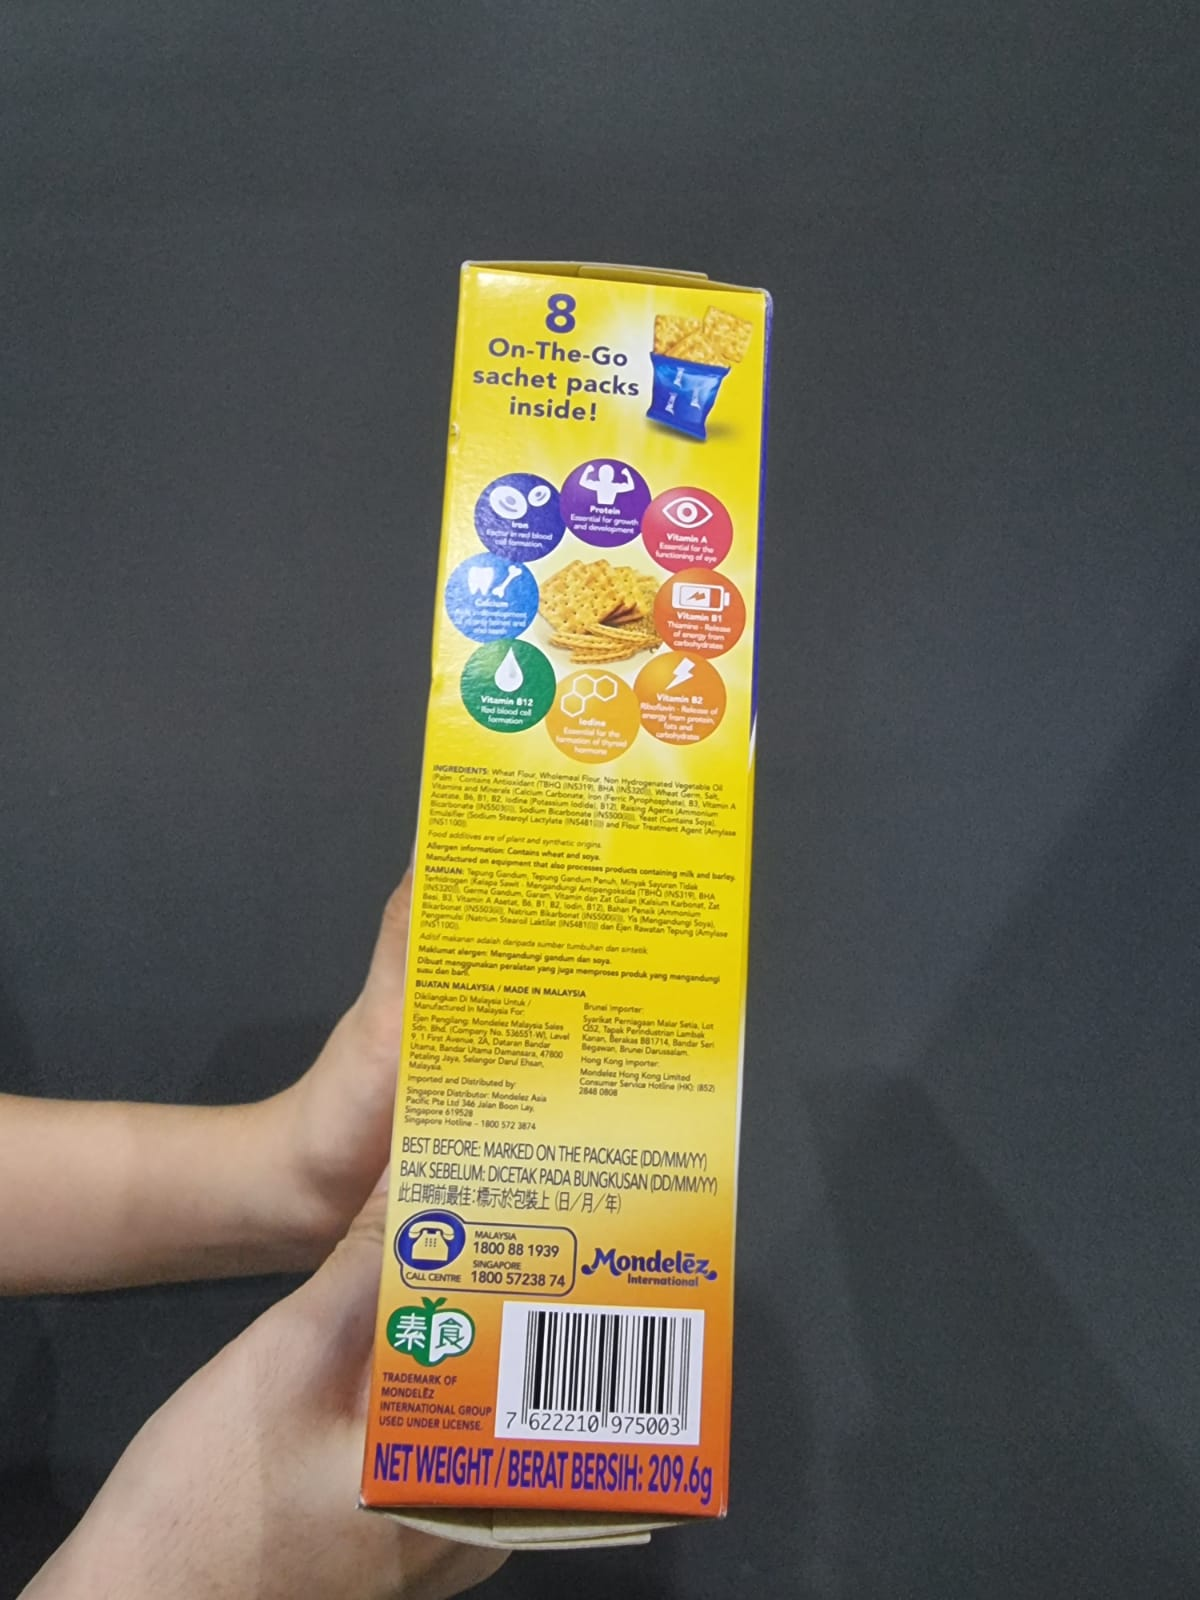Biscuits: (389, 260, 750, 1512)
